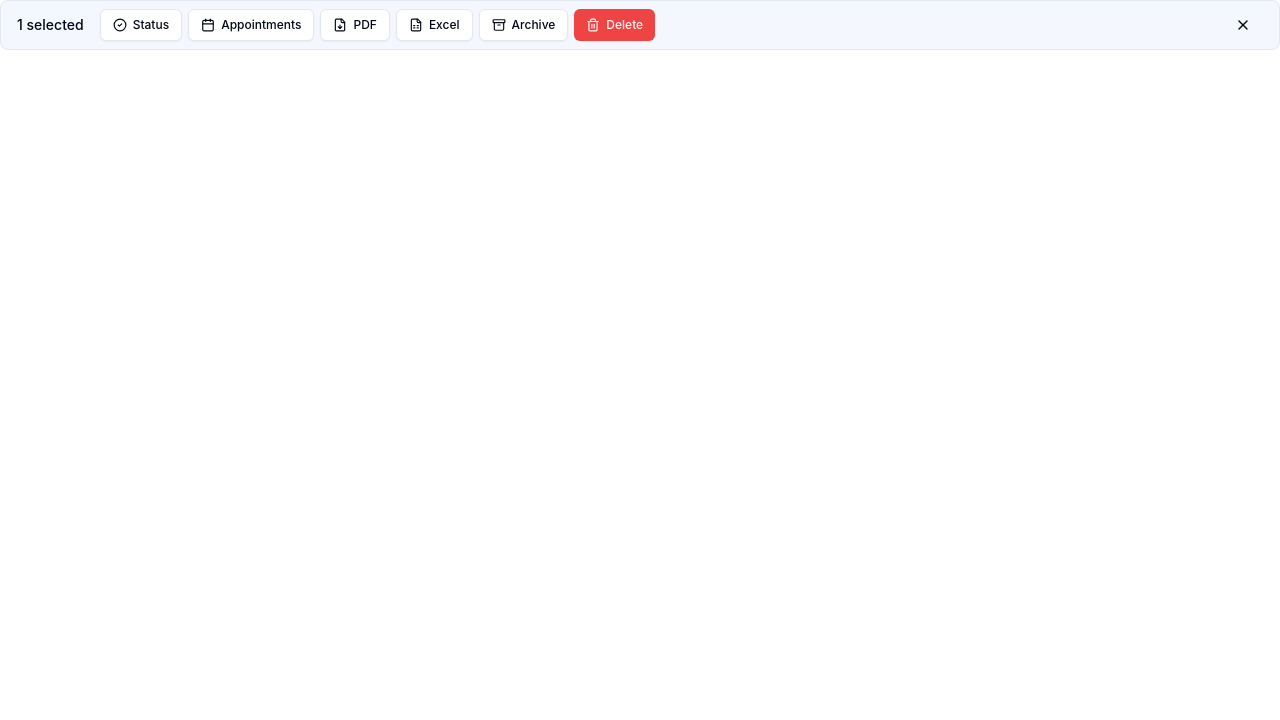
Test: BulkActionToolbar › opens delete confirm dialog on Delete click
Click the button "Delete": [615, 25] box x1=574 y1=9 x2=655 y2=41
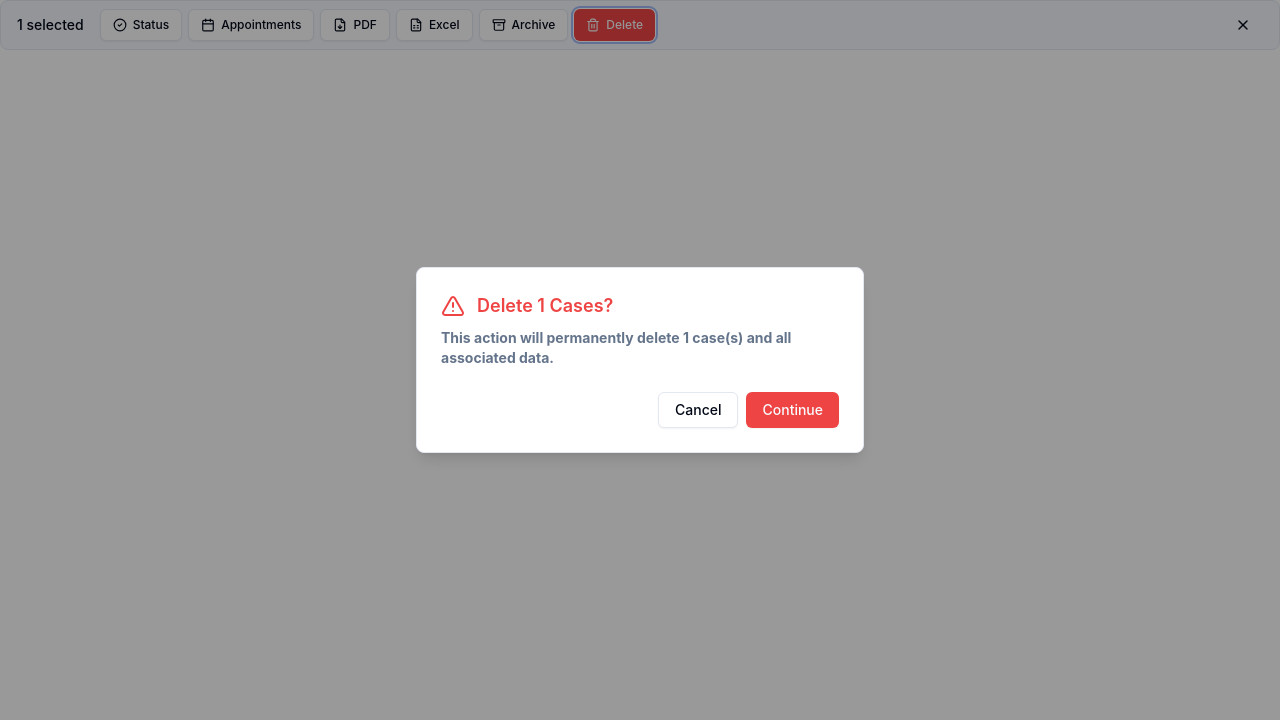
expect the heading "Delete 1 Cases?" is shown: met, box x1=477 y1=292 x2=613 y2=320
